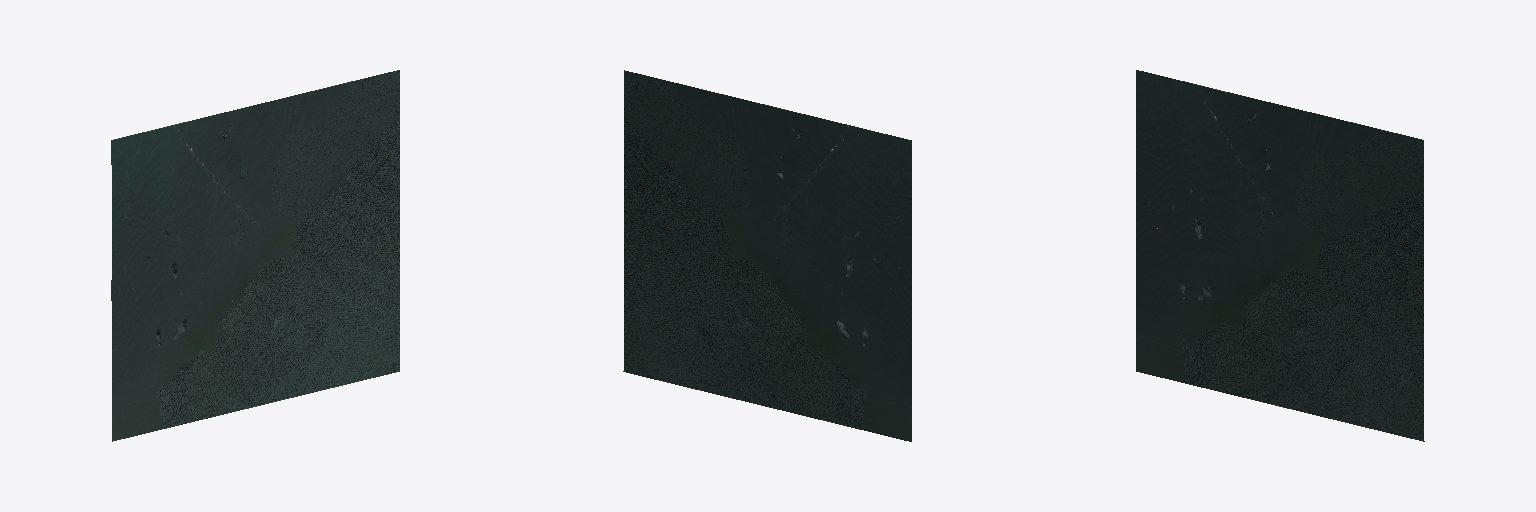
3 views of the same model, side by side, from view 1: azimuth 30°, elevation 25°; view 2: azimuth 150°, elevation 25°; view 3: azimuth 330°, elevation 25° (orthographic).
Bounding box in the file's own units: 252 × 252 × 9.47.
Materials: 2 (1 with a texture image).